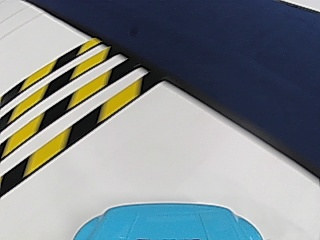bump: (7, 55, 95, 140)
